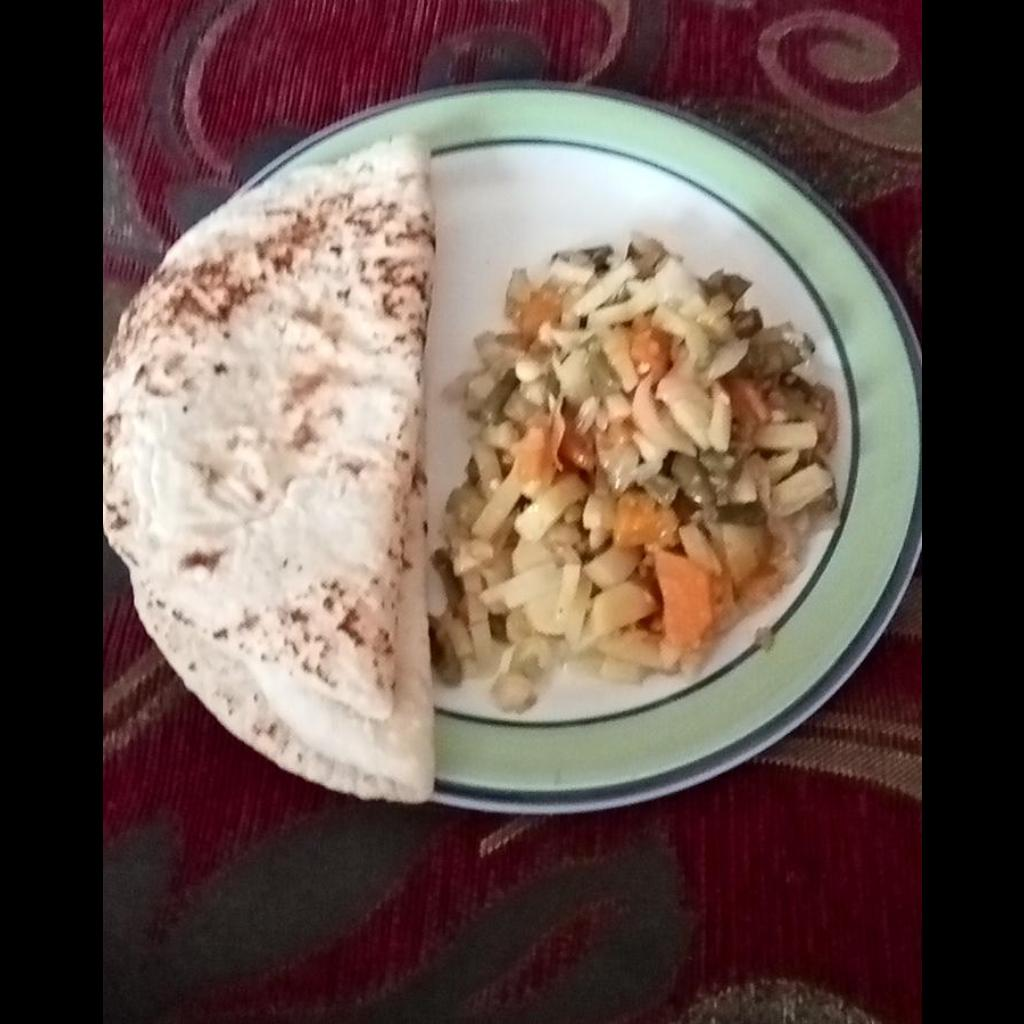ruti: (103, 132, 434, 802)
vegetable: (432, 235, 838, 715)
